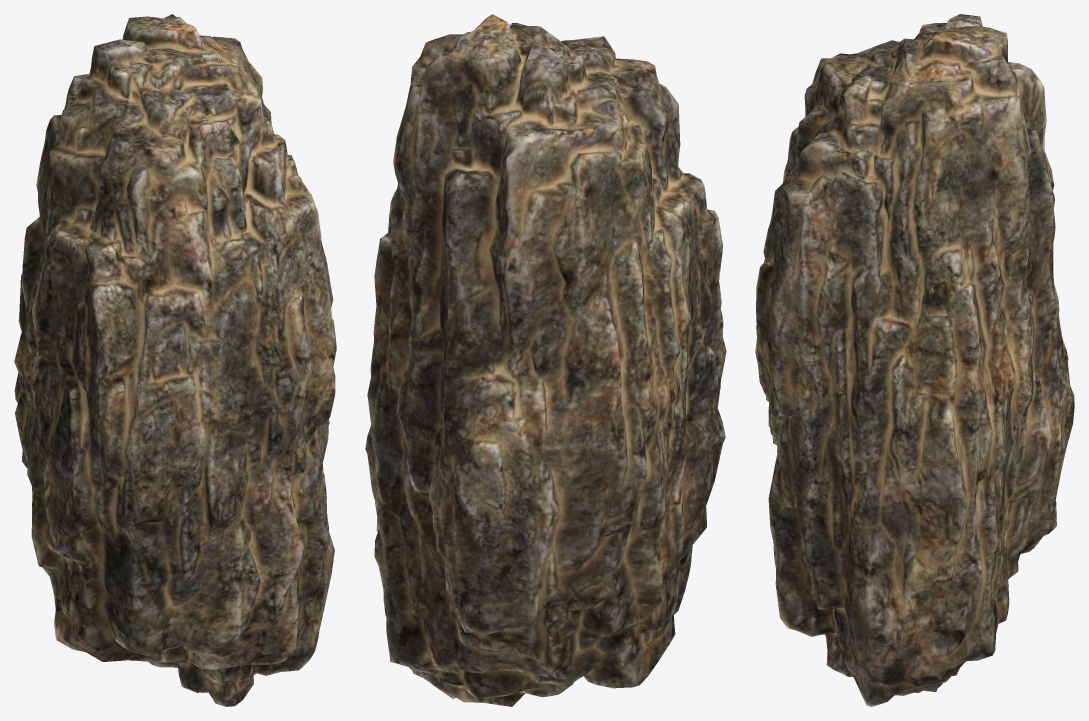
The model's file is Rock - Dark 1-CPkNWGYS.glb.
3 renders of one model, left to right at view 1: azimuth 30°, elevation 25°; view 2: azimuth 150°, elevation 25°; view 3: azimuth 270°, elevation 25°, orthographic. The views are drawn at different scales.
Parts seen in each view (by area): view 1: DarkRock_1; view 2: DarkRock_1; view 3: DarkRock_1.
Boxes of the visible parts, x1,y1,x2,y2 form: DarkRock_1: (14,14,336,706); DarkRock_1: (365,14,726,706); DarkRock_1: (755,14,1074,706).
Size of the model in its own units: 5.92 by 13.02 by 5.88.
1 material, 1 textured.
